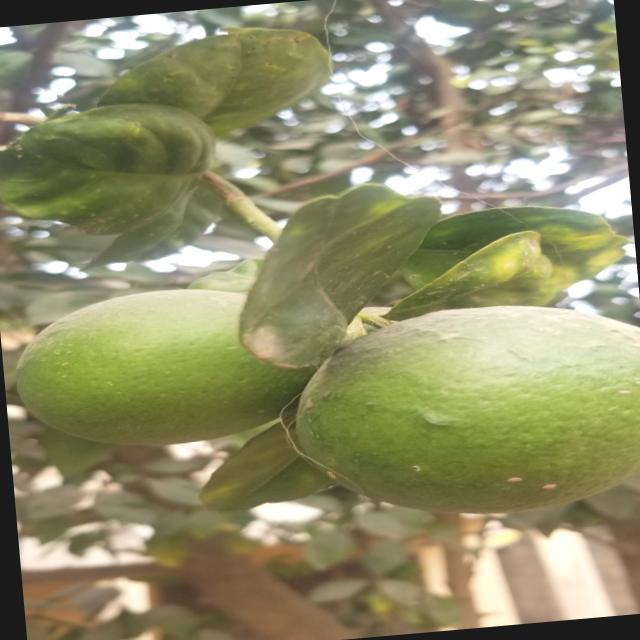Unripe: (0, 223, 335, 484), (299, 283, 640, 530)
